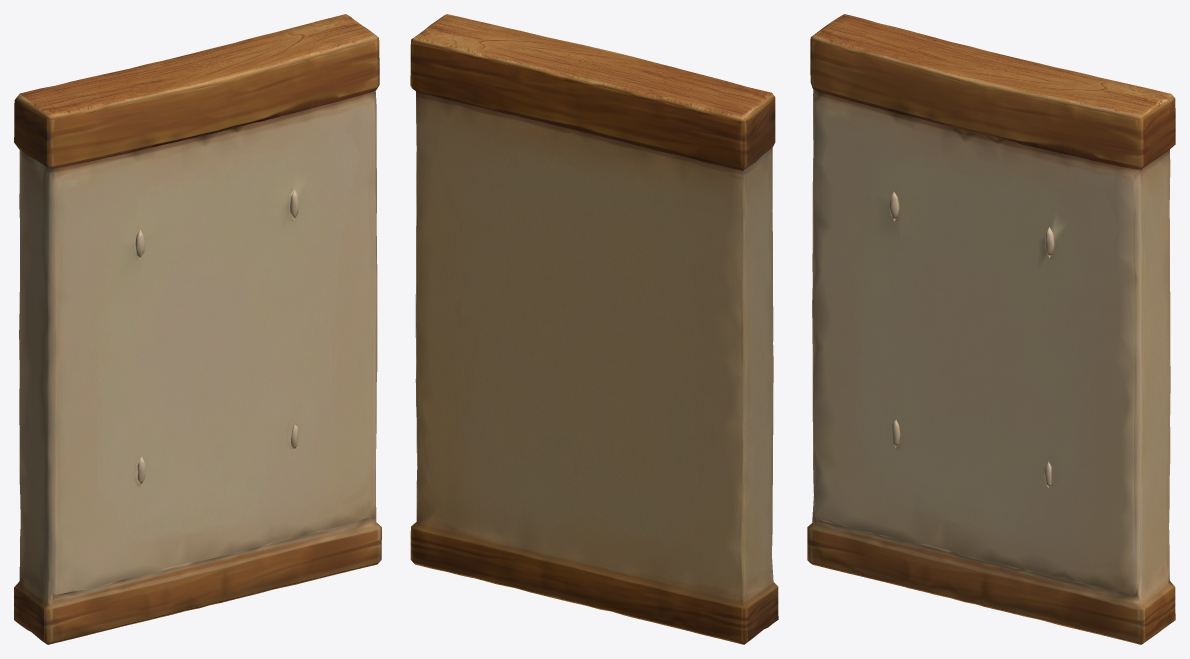
Rendered from SM_Env_Wall.fbx.
3 renders of one model, left to right at view 1: azimuth 30°, elevation 25°; view 2: azimuth 150°, elevation 25°; view 3: azimuth 330°, elevation 25°, orthographic.
Parts seen in each view (by area): view 1: SM_Env_Wall; view 2: SM_Env_Wall; view 3: SM_Env_Wall.
Part boxes in pixels (x1,y1,x2,y2): SM_Env_Wall: (14, 14, 381, 644); SM_Env_Wall: (410, 14, 778, 644); SM_Env_Wall: (807, 14, 1175, 644).
Size of the model in its own units: 2 by 3 by 0.4.
